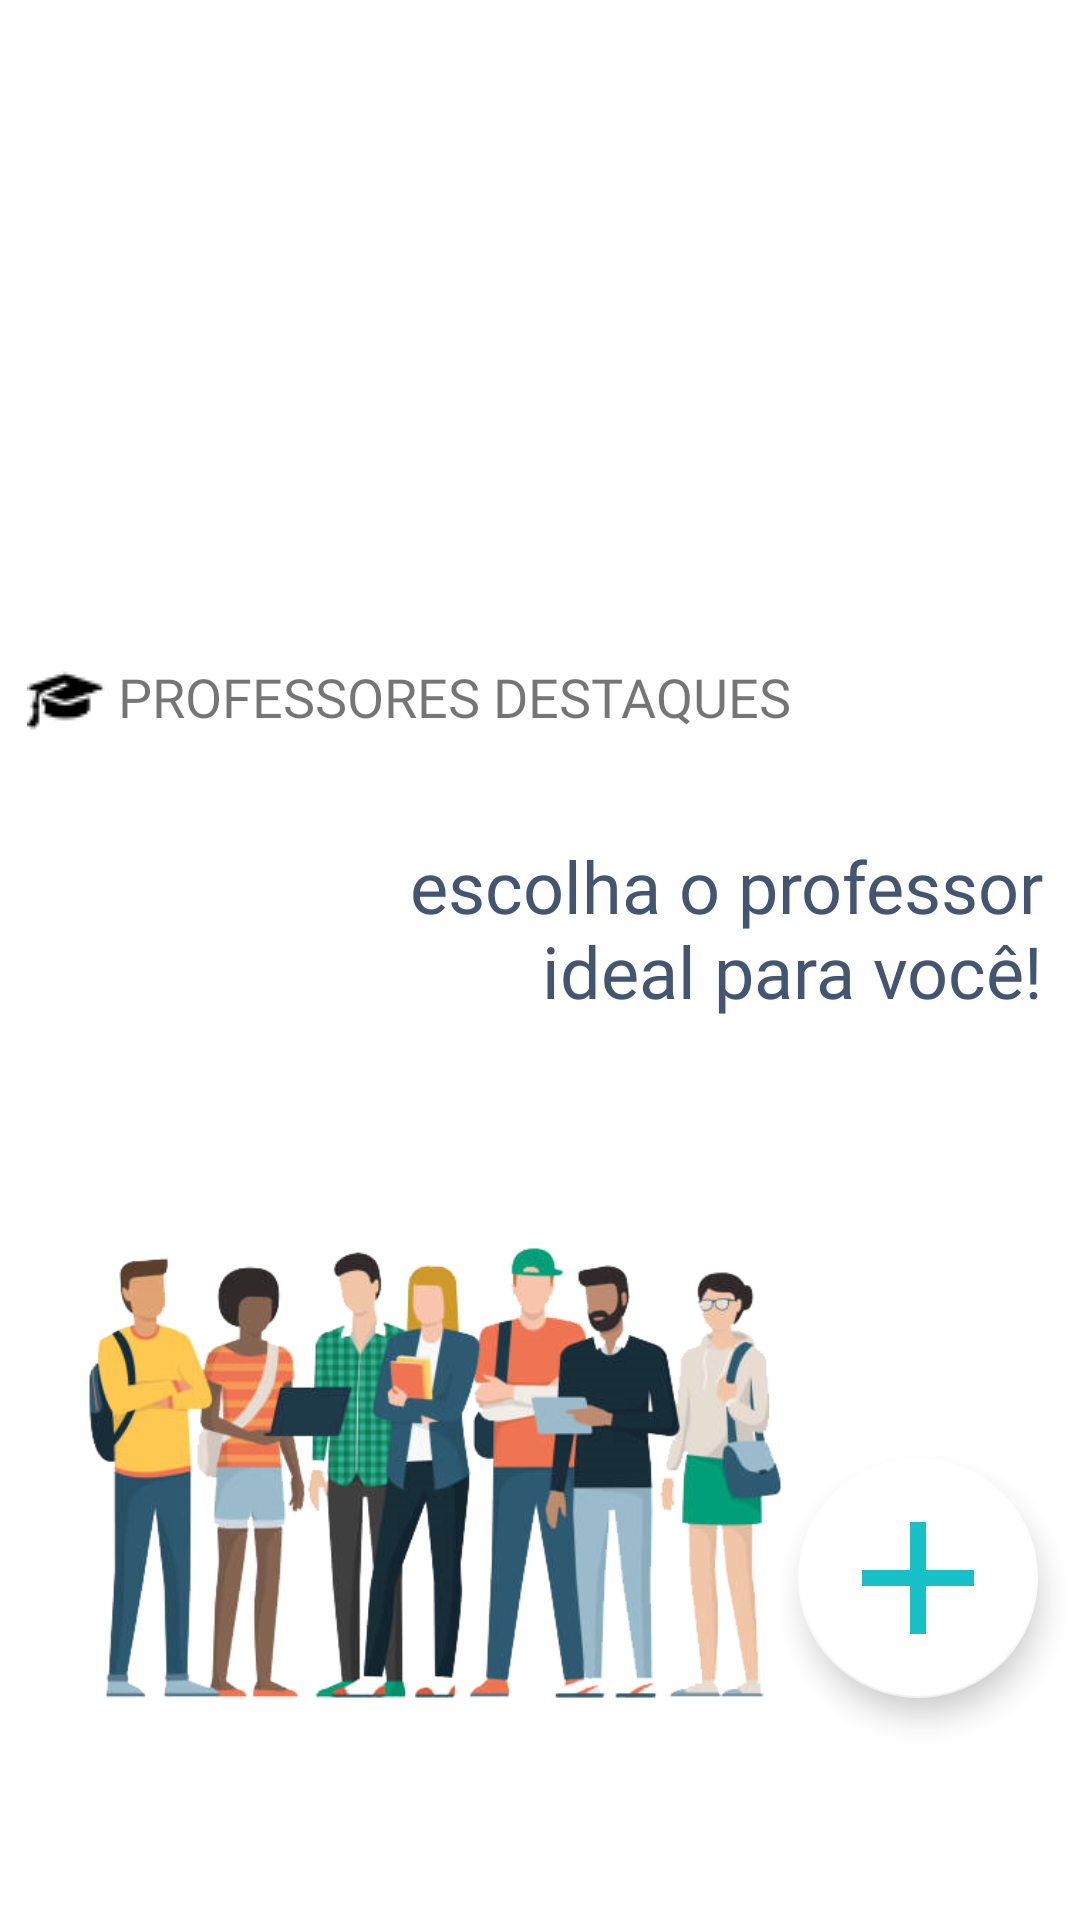

Named icons in this screenshot (1080×1920) and their bounding boxes, (x1, y1, x2, y2):
add: (862, 1522, 974, 1634)
